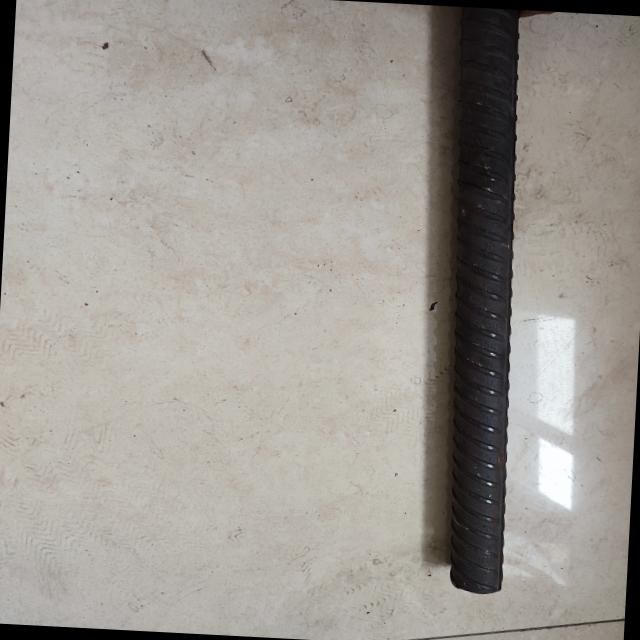ribbed bar: (419, 16, 543, 597)
